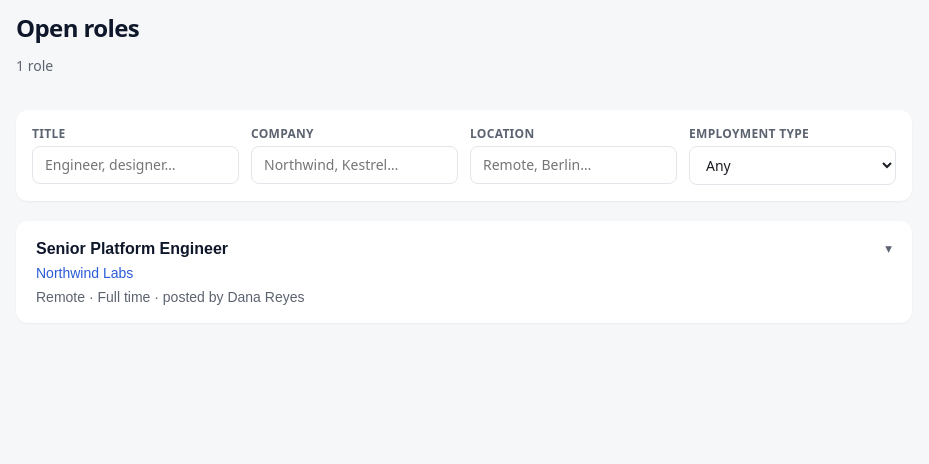
Test: JobsPage › expands a row to reveal the description
Click the button "Senior Platform Engineer" at [132, 248], box [16,221,912,323]
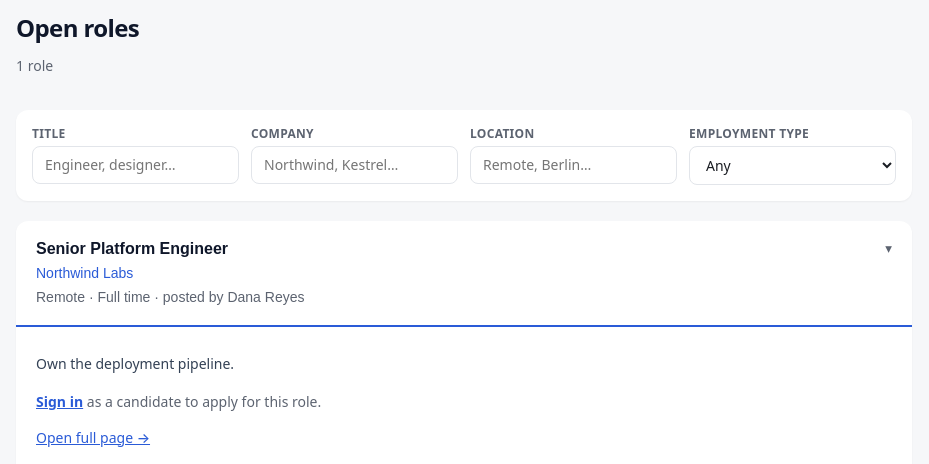
expect the text "Own the deployment pipeline." is shown: met, box [36,354,234,373]
